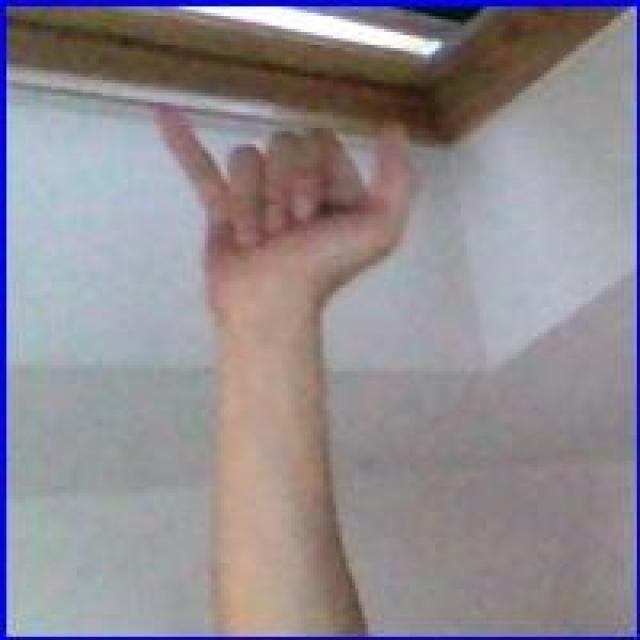Y: (149, 91, 424, 312)
